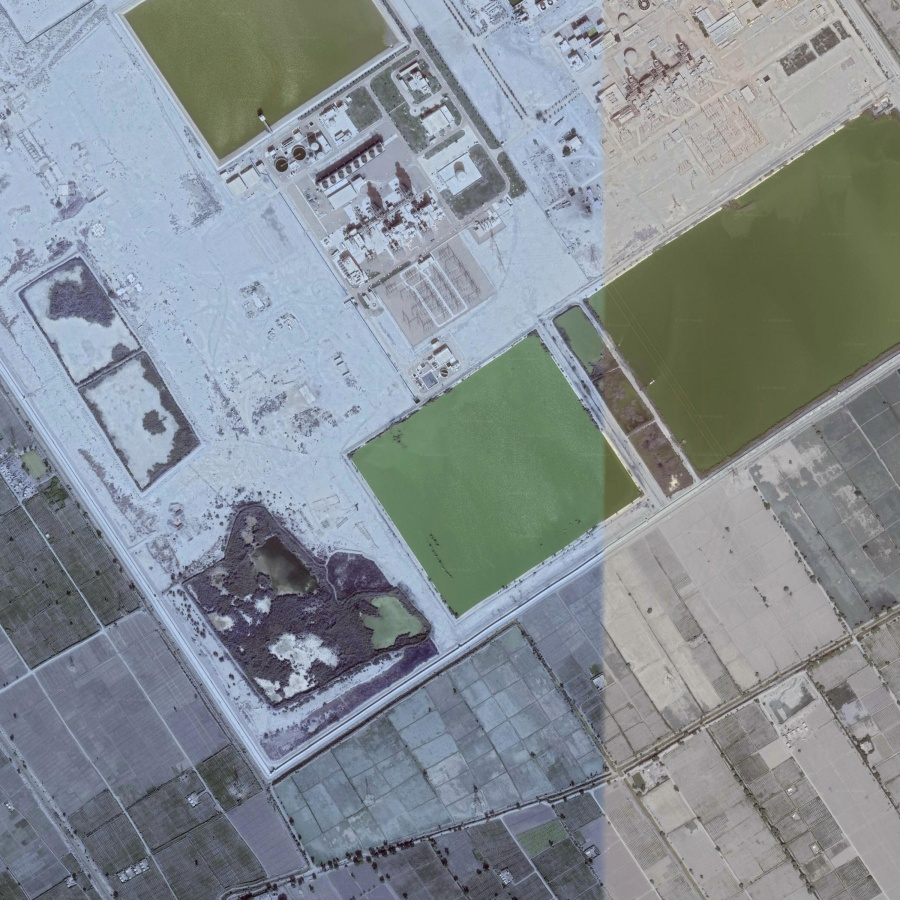PowerPlant: (271, 58, 513, 379)
